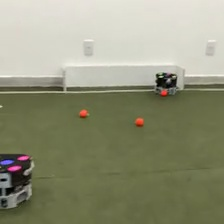ball: (134, 116, 145, 126), (79, 107, 88, 118), (160, 88, 168, 97)
goal: (60, 63, 187, 95)
robot: (1, 152, 35, 211), (155, 71, 178, 97)
